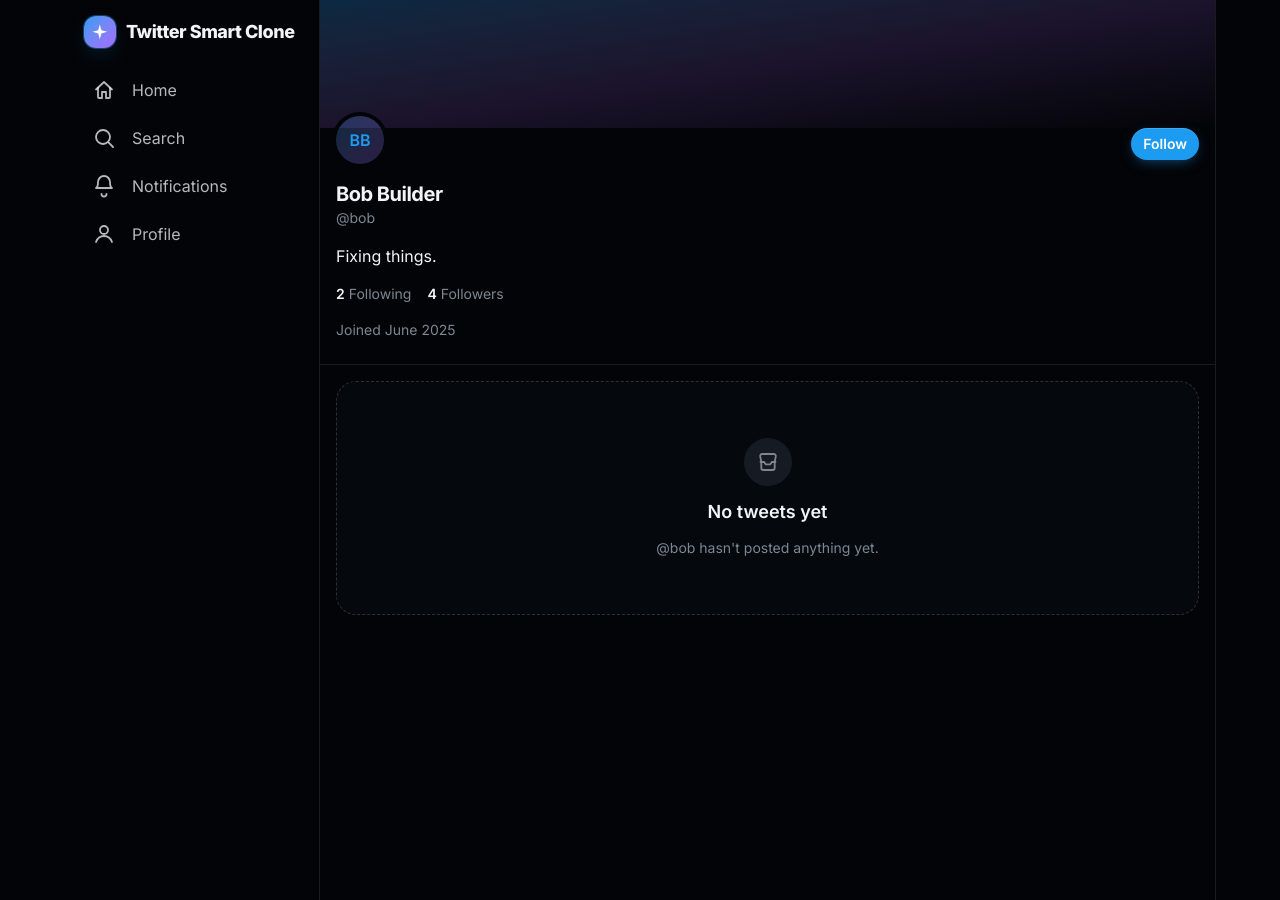
Test: FollowButton › fully rolls back the optimistic update when the follow request fails
Check: the text "4" is shown, box [427,285,437,302]
Click the button "Follow" at (1165, 144), box [1131,128,1199,160]
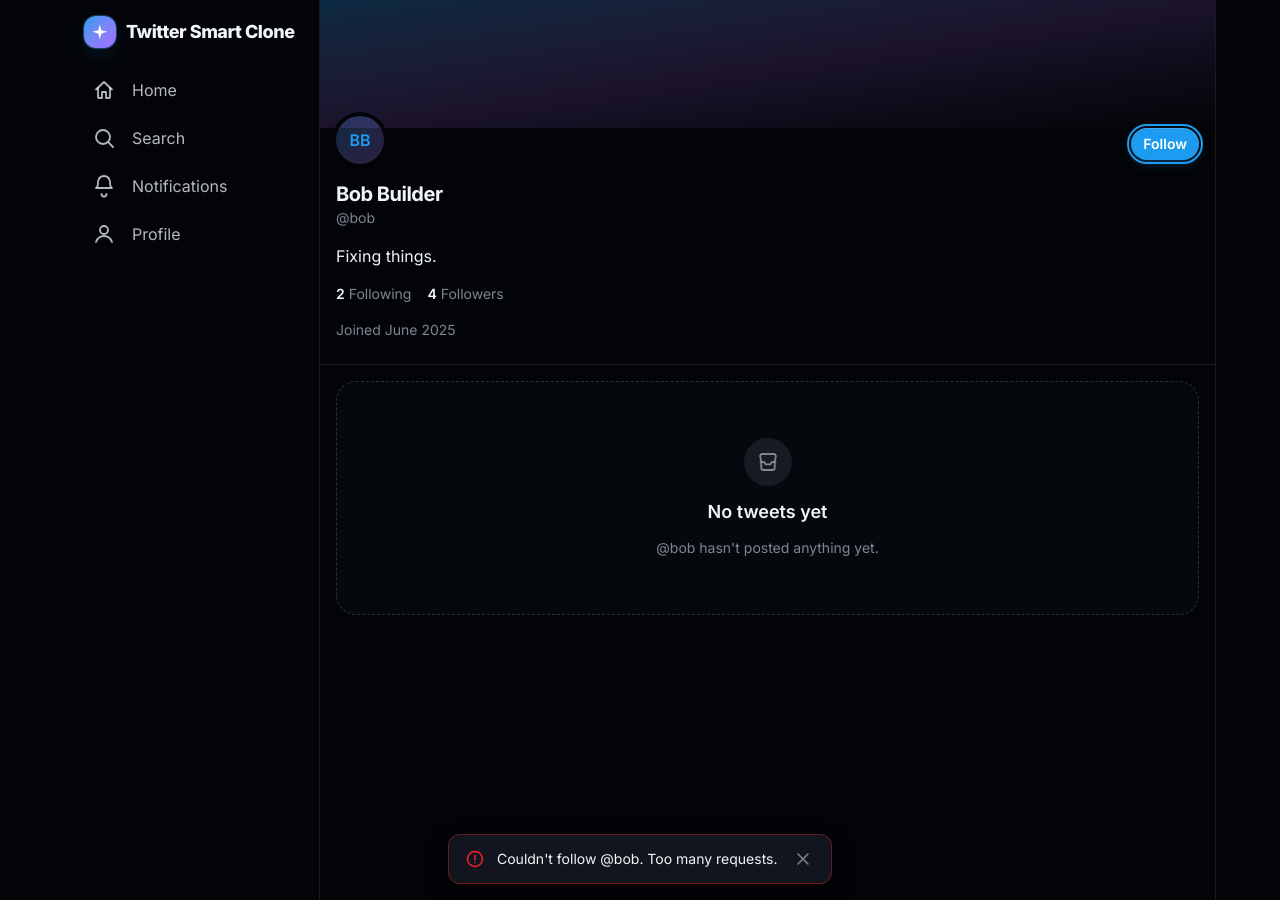
Check: the text "4" is shown, box [427,285,437,302]
Check: the message "Couldn't follow @bob. Too many requests." is shown, box [448,834,832,884]
